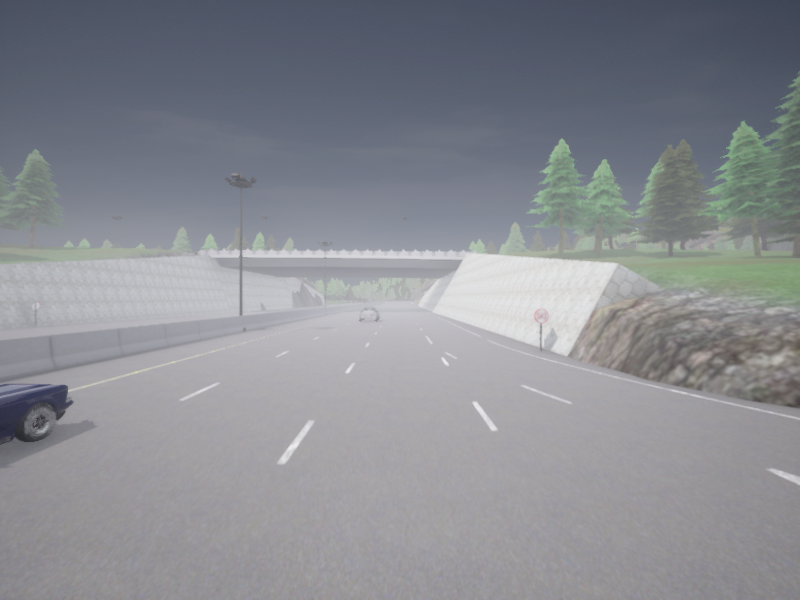vehicle: (0, 384, 73, 444), (360, 307, 379, 320)
